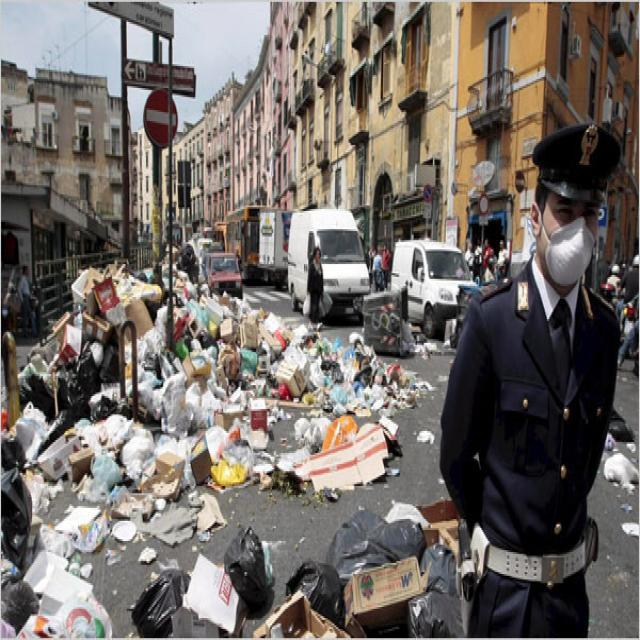plastic: (6, 257, 427, 629), (318, 501, 466, 640), (214, 522, 280, 611), (126, 556, 194, 637)
